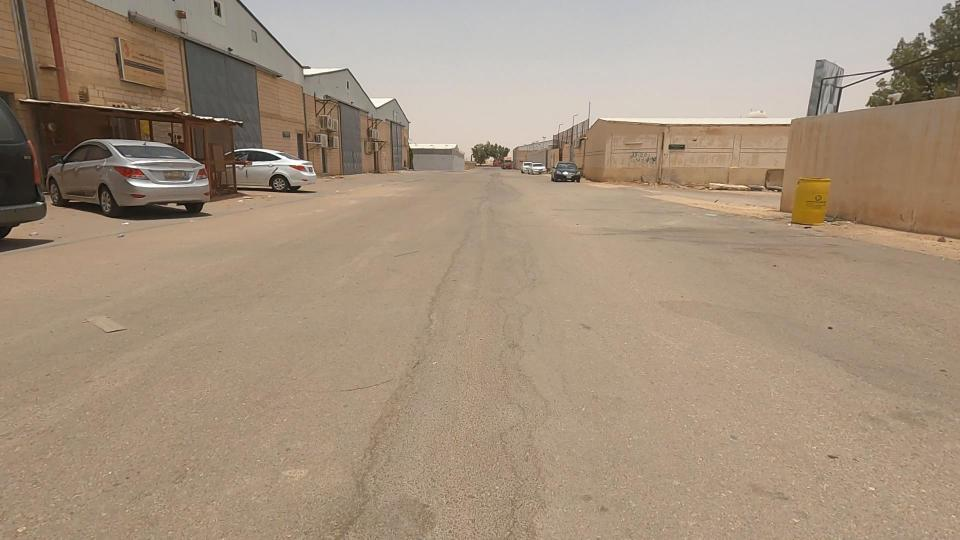GARBAGE: (44, 288, 191, 364), (219, 180, 267, 215)
